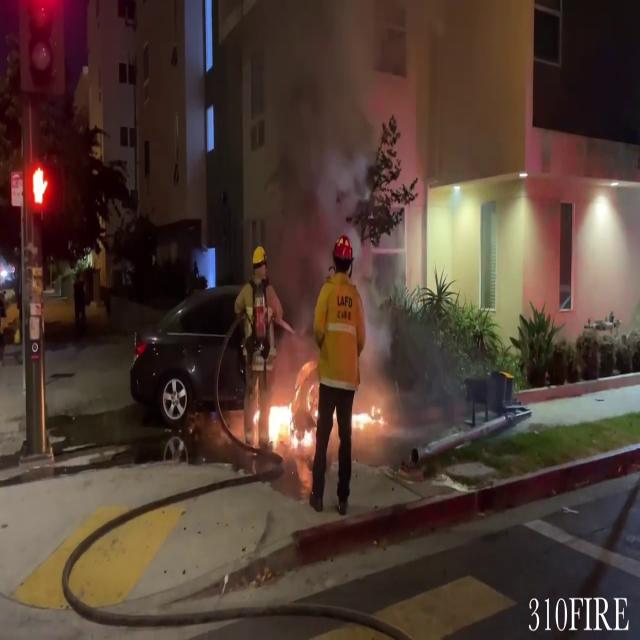Fire: (256, 386, 312, 462), (352, 395, 388, 438)
Smoke: (253, 1, 376, 316)
